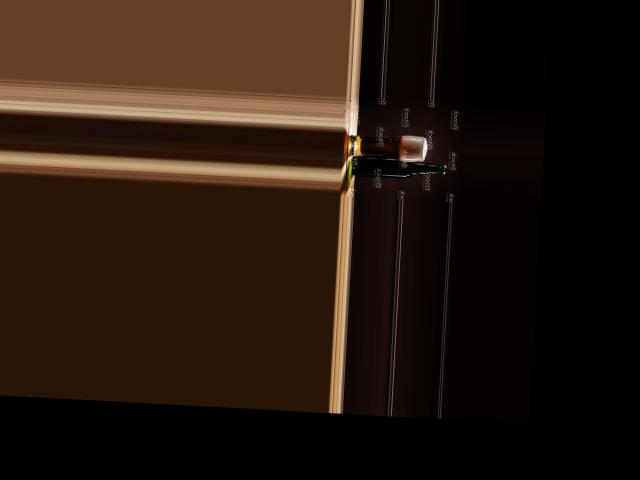beer: (351, 154, 446, 180)
